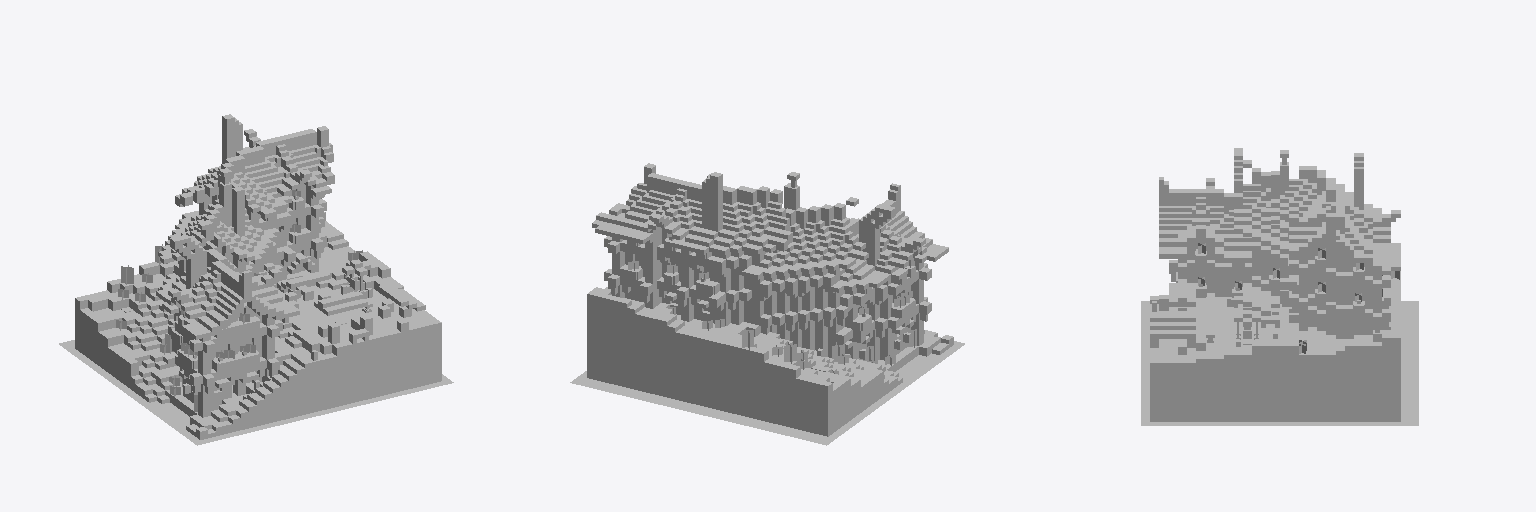
File: building.obj
The picture shows the model from 3 angles: view 1: azimuth 30°, elevation 25°; view 2: azimuth 150°, elevation 25°; view 3: azimuth 270°, elevation 25°; orthographic projection.
Size of the model in its own units: 32 by 25.5 by 30.